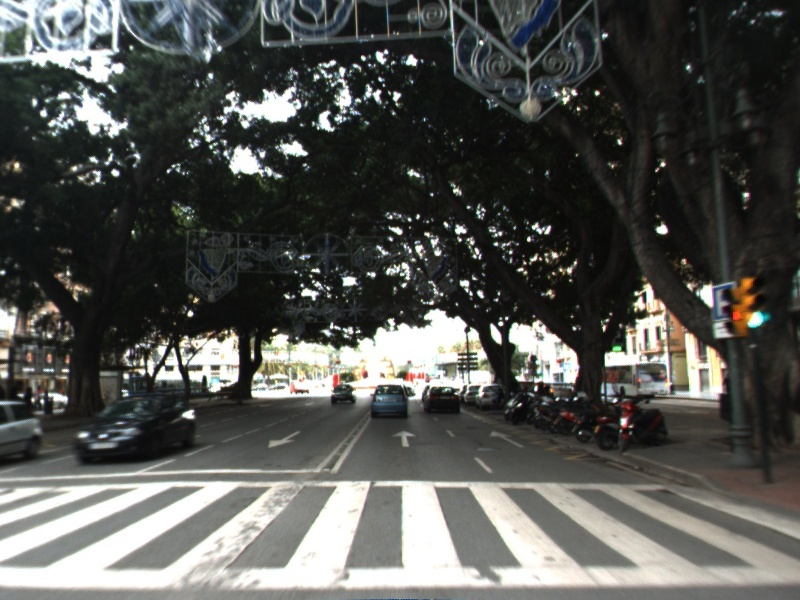STRAIGHT: (487, 428, 525, 449), (390, 428, 418, 449)
